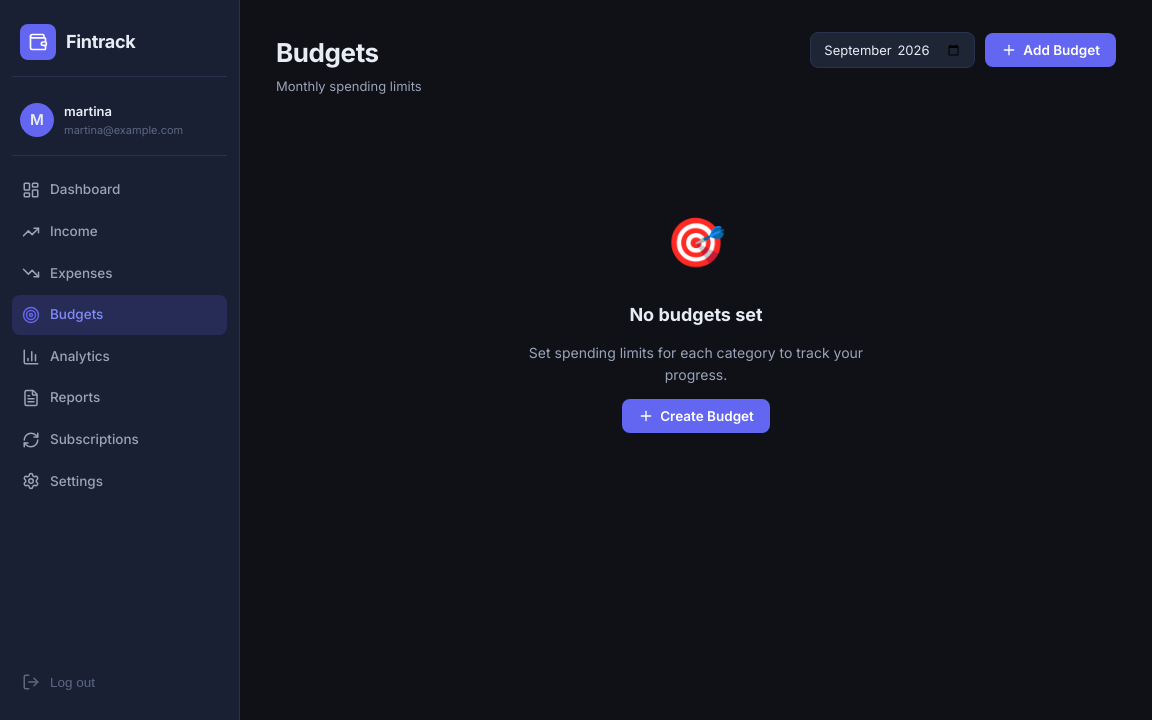
Test case: cards › shows an empty state whose button opens the form
The width and height of the screenshot is (1152, 720).
Expected: the heading "No budgets set" is shown, [629, 301, 763, 330]
Click the button "Create Budget" at (696, 416), box [622, 399, 770, 433]
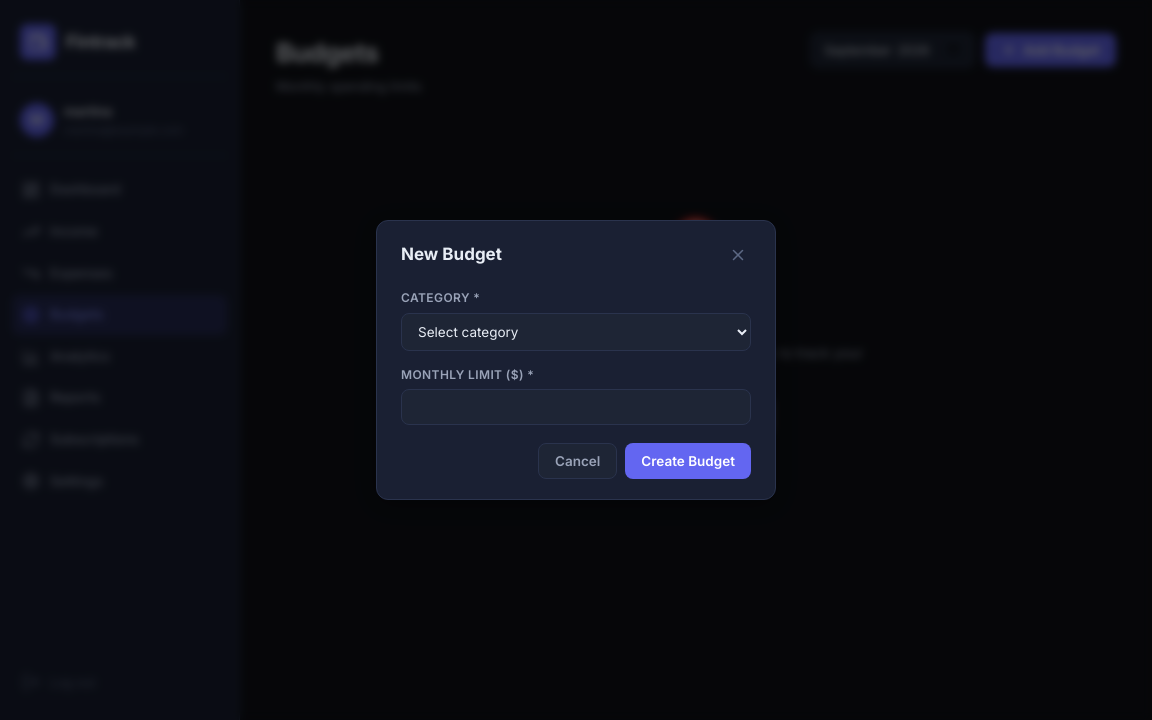
Now the heading "New Budget" is shown, box [401, 241, 502, 268]
